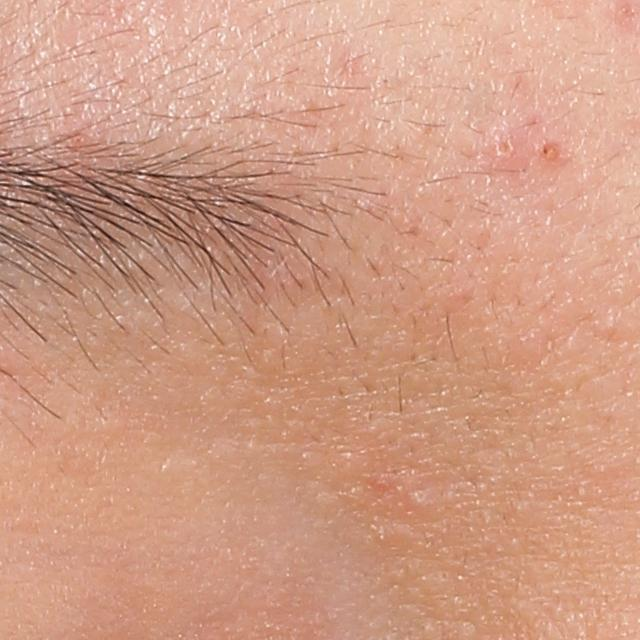comedo: (401, 489, 425, 513)
papule: (488, 133, 524, 171), (540, 138, 563, 165)
